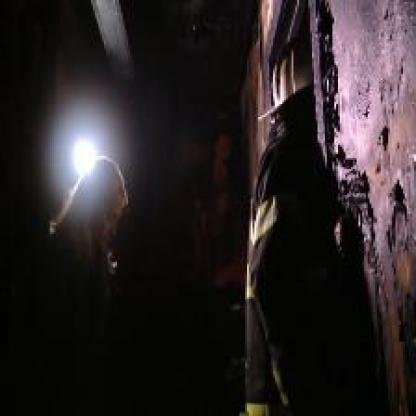other: (56, 124, 100, 185)
